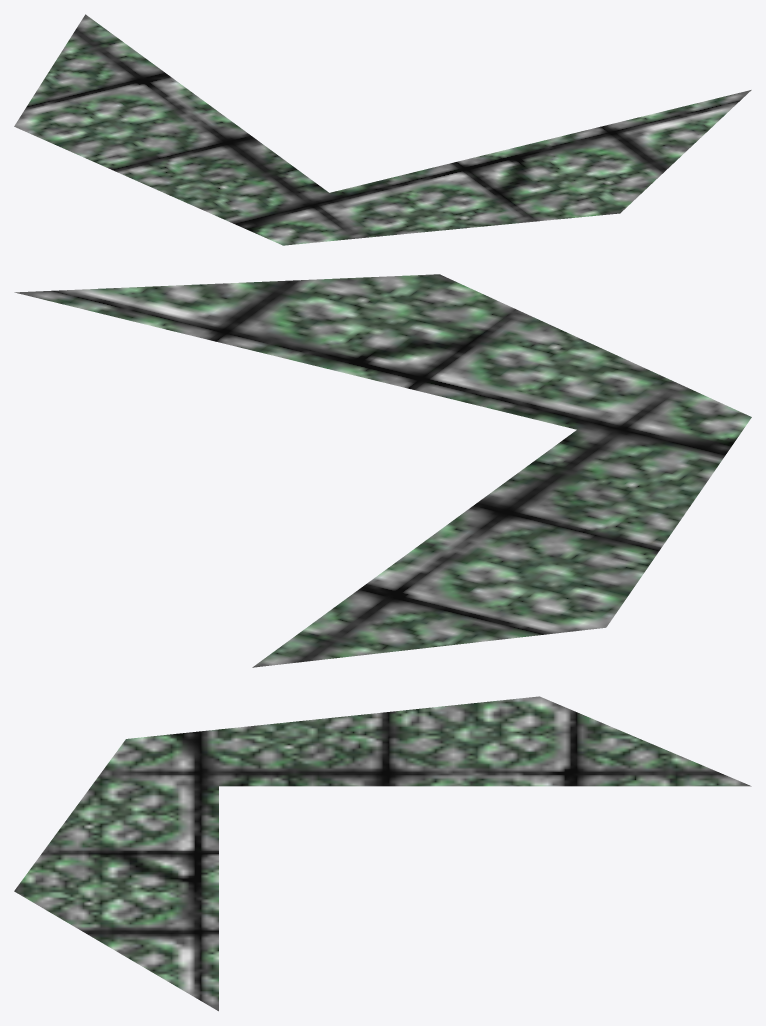
Rendered from BodenErker [GraugrüneFliesen]_1392.glb.
The picture shows the model from 3 angles, top to bottom: view 1: azimuth 30°, elevation 25°; view 2: azimuth 150°, elevation 25°; view 3: azimuth 270°, elevation 25°; orthographic projection. The views are drawn at different scales.
Parts seen in each view (by area): view 1: polySurfaceShape1242; view 2: polySurfaceShape1242; view 3: polySurfaceShape1242.
Part boxes in pixels (box(x1,y1,x2,y2)): polySurfaceShape1242: box(14, 14, 751, 245); polySurfaceShape1242: box(14, 274, 751, 667); polySurfaceShape1242: box(14, 696, 751, 1011).
Bounding box in the file's own units: 0.3498 × 1.51e-08 × 0.3462.
Materials: 1 (1 with a texture image).
